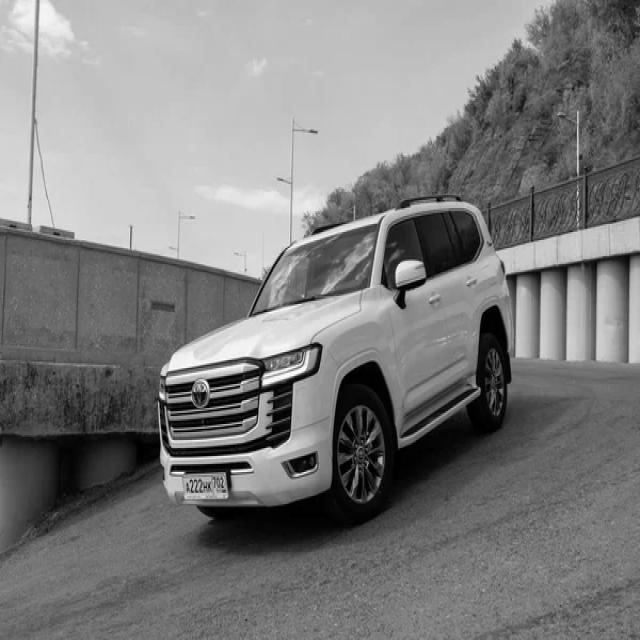Car: (160, 195, 512, 524)
